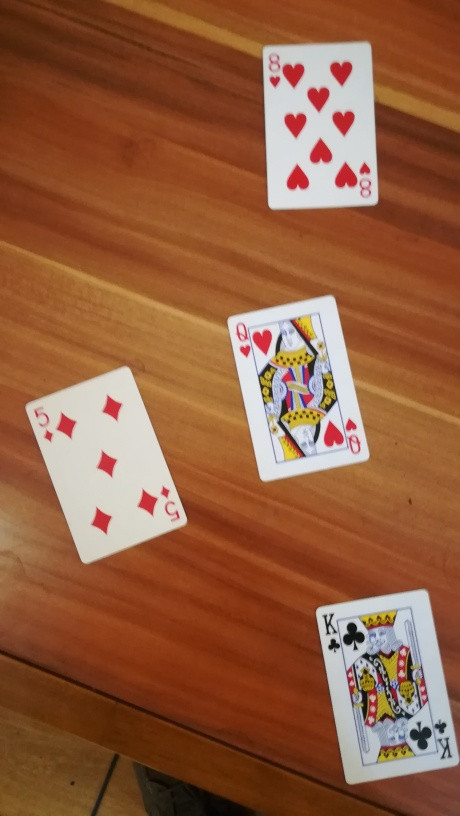fk 5: (23, 364, 189, 570)
hx 8: (260, 39, 384, 213)
hx q: (228, 294, 380, 485)
mh k: (304, 585, 460, 784)
